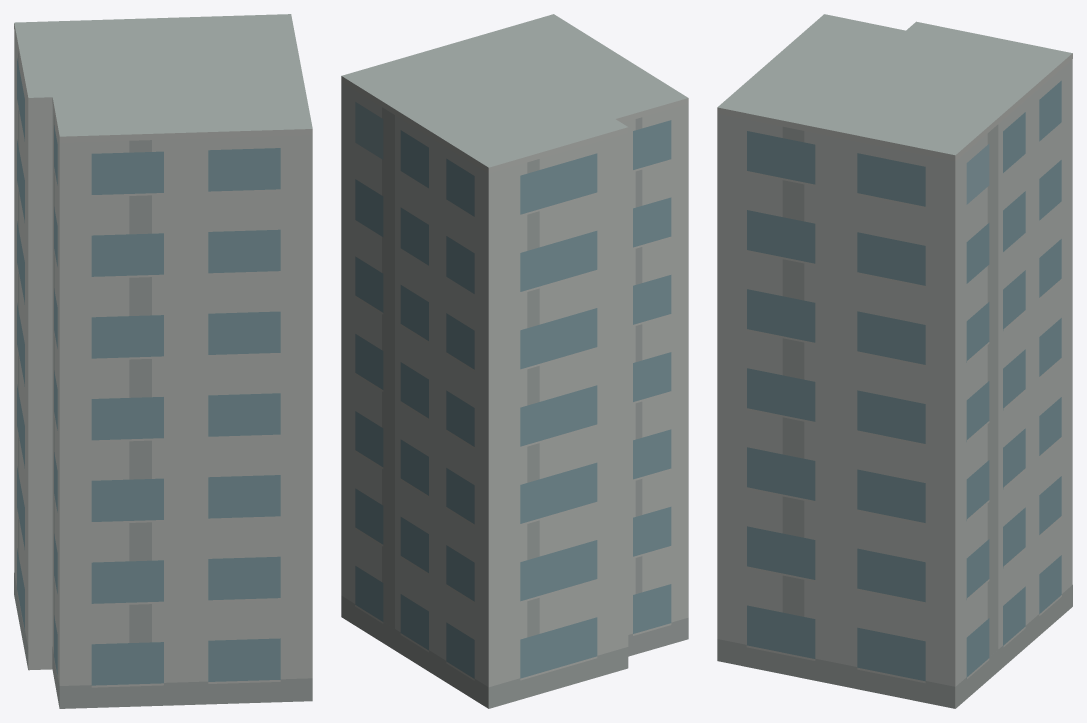
File: survey-upis-32626144.glb
3 views of the same model, side by side, from view 1: azimuth 30°, elevation 25°; view 2: azimuth 150°, elevation 25°; view 3: azimuth 270°, elevation 25° (orthographic). The views are drawn at different scales.
Parts seen in each view (by area): view 1: survey-upis-32626144.tmp; view 2: survey-upis-32626144.tmp; view 3: survey-upis-32626144.tmp.
Boxes of the visible parts, box(x1,y1,x2,y2) form: survey-upis-32626144.tmp: box(14, 14, 312, 708); survey-upis-32626144.tmp: box(341, 14, 688, 708); survey-upis-32626144.tmp: box(717, 14, 1072, 708).
Bounding box in the file's own units: 12.22 × 22.3 × 12.98.
